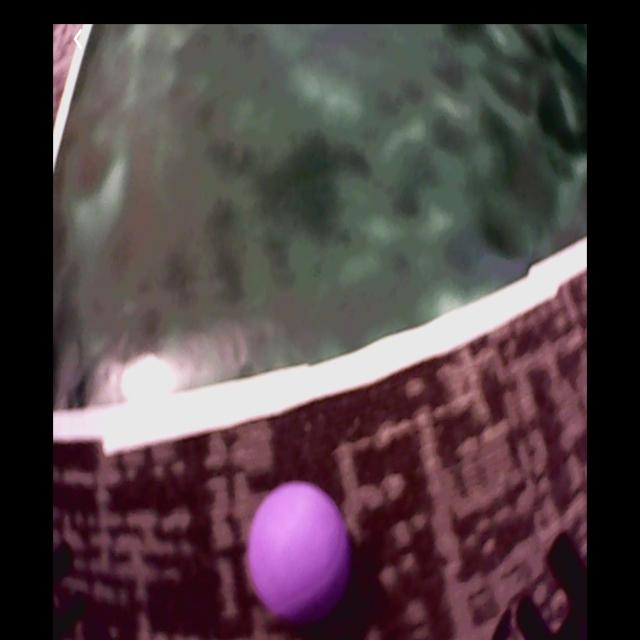ball: (247, 479, 355, 626)
